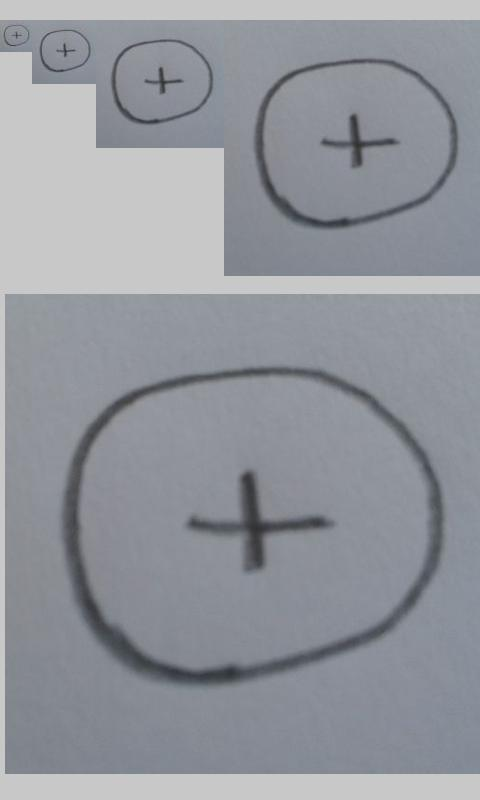button: (63, 363, 445, 686), (255, 57, 459, 230), (111, 39, 214, 125), (39, 29, 91, 72), (3, 24, 30, 47)
